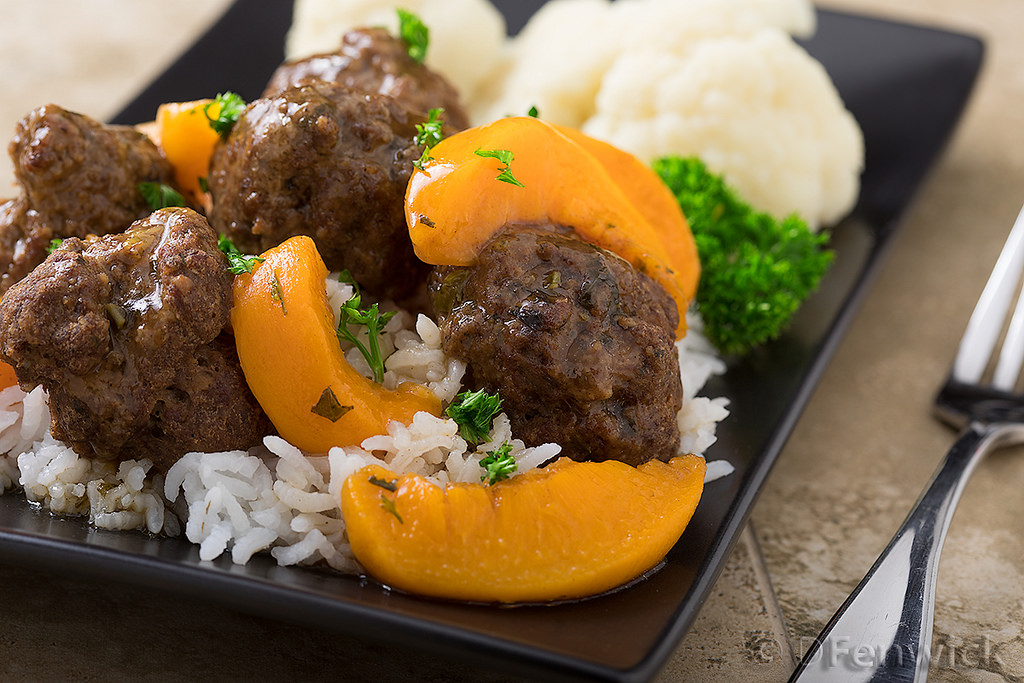meatballs: (22, 241, 217, 448), (209, 71, 406, 236)
